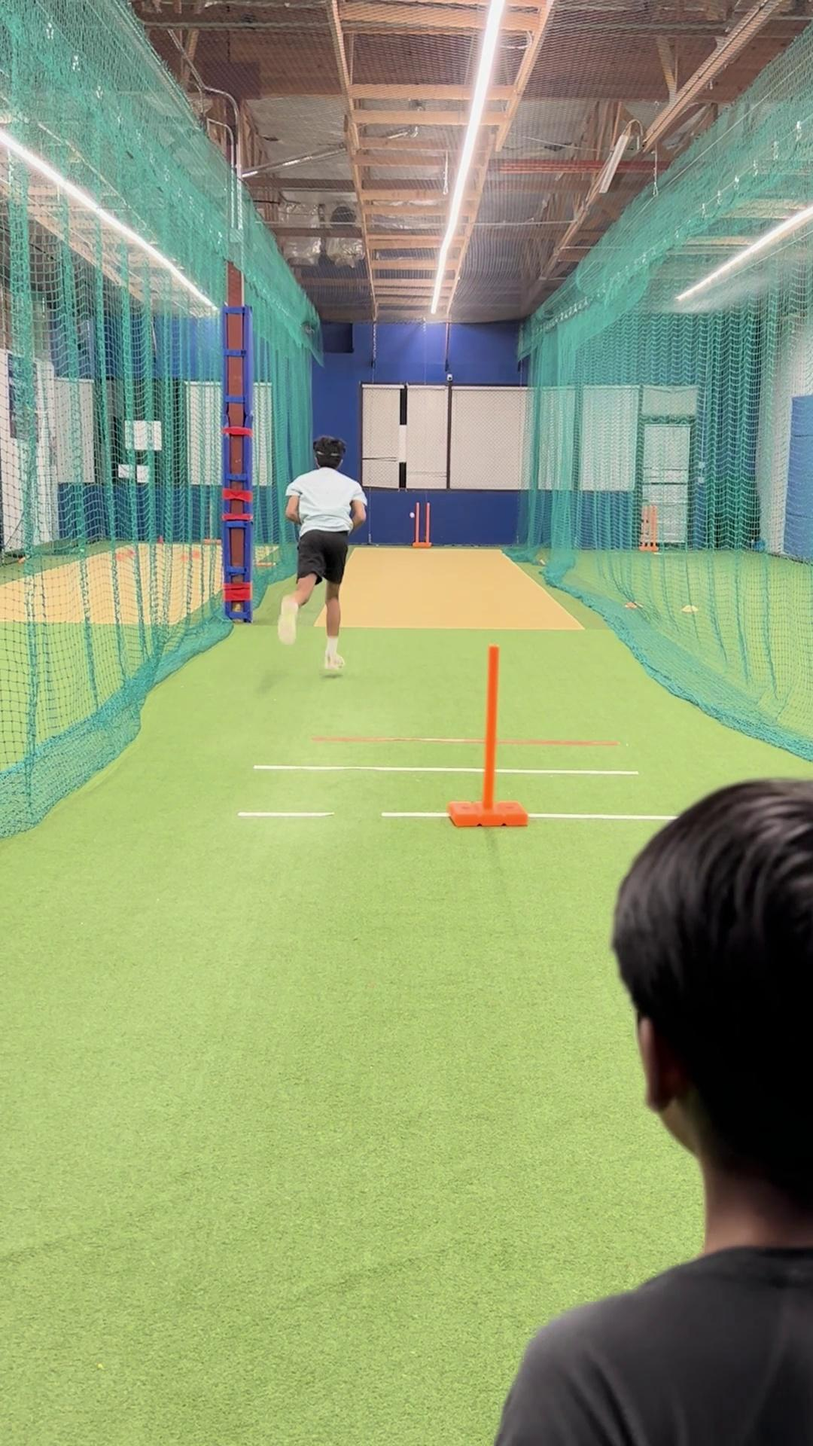ball: (408, 509, 416, 521)
